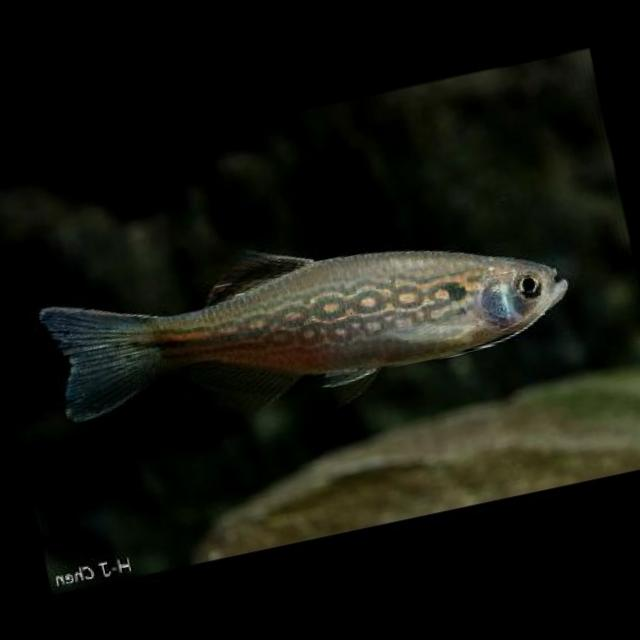ZebraFish: (35, 178, 581, 454)
